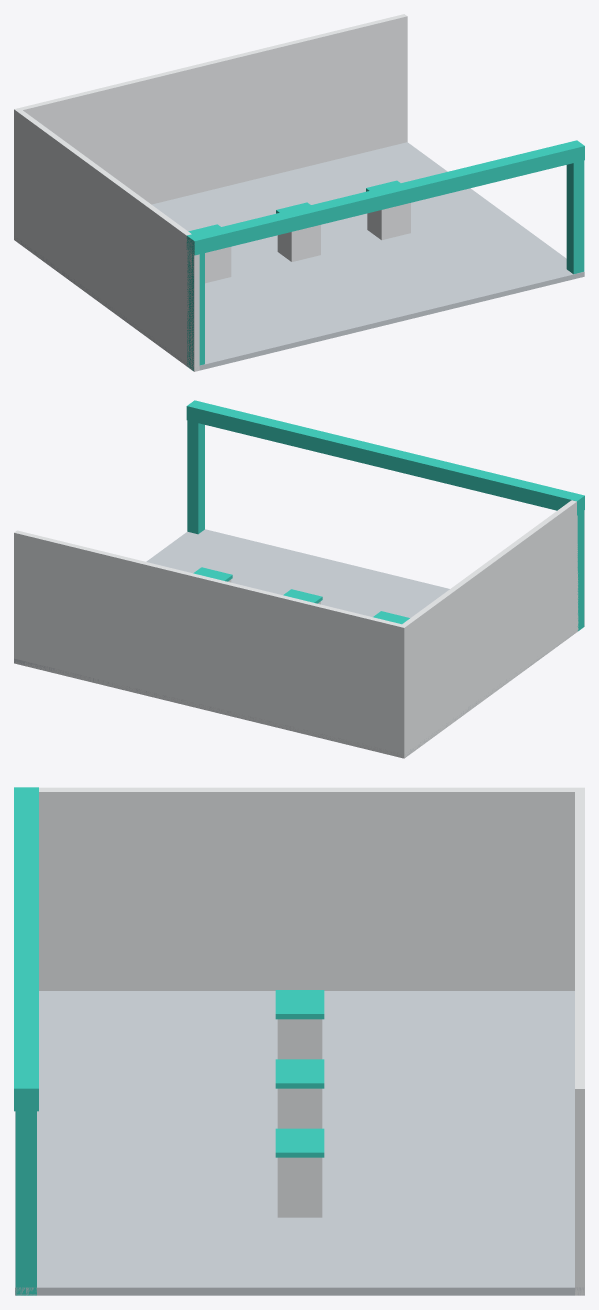
3 views of the same model, one above another, from view 1: azimuth 30°, elevation 25°; view 2: azimuth 150°, elevation 25°; view 3: azimuth 270°, elevation 25° (orthographic). The views are drawn at different scales.
Visible parts, largest first — view 1: Exhibition Booth Concept; view 2: Exhibition Booth Concept; view 3: Exhibition Booth Concept.
Boxes of the visible parts, box(x1,y1,x2,y2) form: Exhibition Booth Concept: box(14, 14, 584, 371); Exhibition Booth Concept: box(14, 400, 584, 758); Exhibition Booth Concept: box(14, 787, 584, 1295).
Size of the model in its own units: 10 by 3.2 by 8.01.
